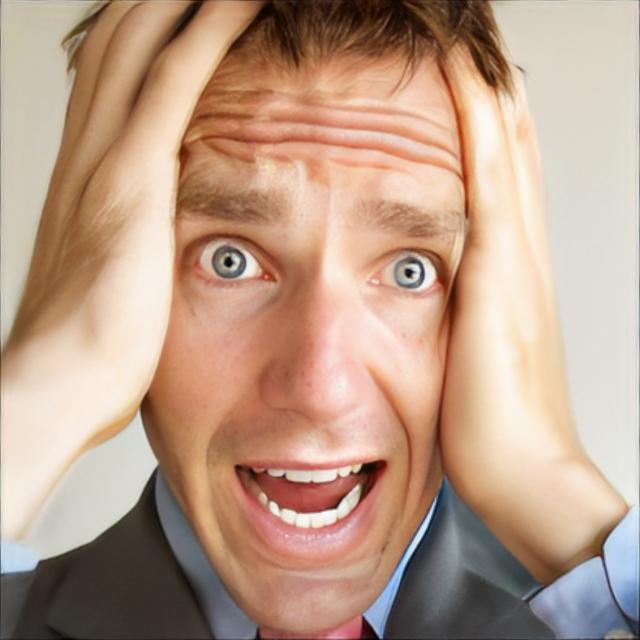fear: (139, 34, 466, 634)
